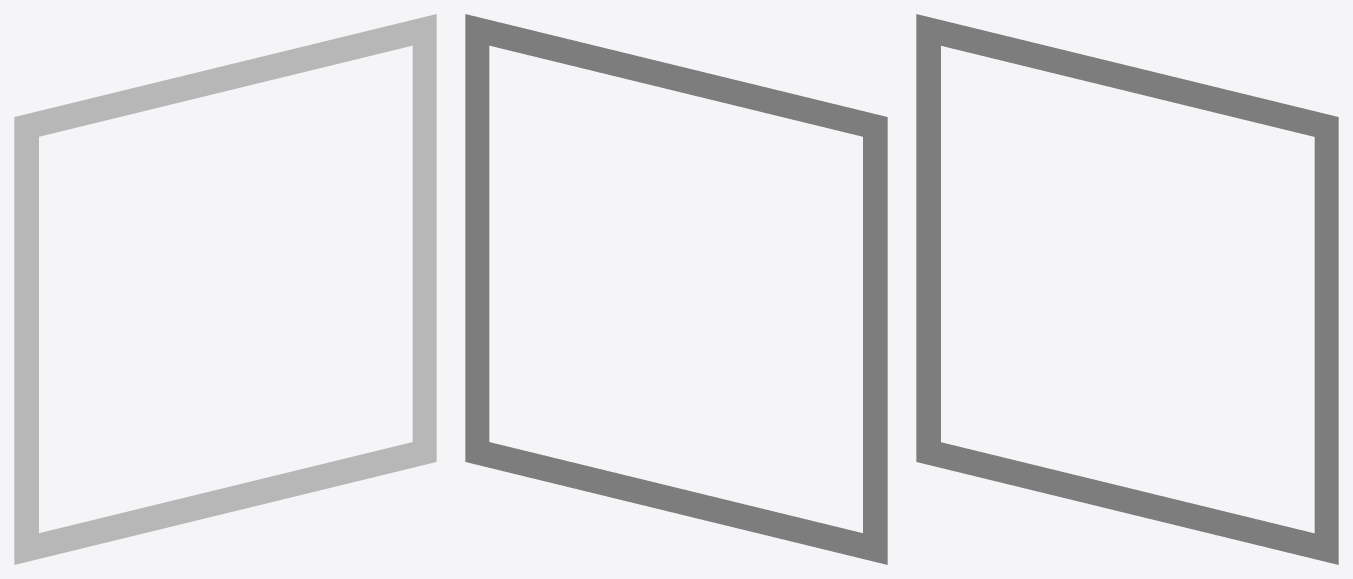
File: ShapeParticleBox004.fbx
3 renders of one model, left to right at view 1: azimuth 30°, elevation 25°; view 2: azimuth 150°, elevation 25°; view 3: azimuth 330°, elevation 25°, orthographic.
Parts seen in each view (by area): view 1: Polygonal_Geometry; view 2: Polygonal_Geometry; view 3: Polygonal_Geometry.
Part boxes in pixels (x1,y1,x2,y2): Polygonal_Geometry: (14, 14, 436, 564); Polygonal_Geometry: (465, 14, 887, 564); Polygonal_Geometry: (916, 14, 1338, 564).
Size of the model in its own units: 3.84 by 3.89 by 0.
